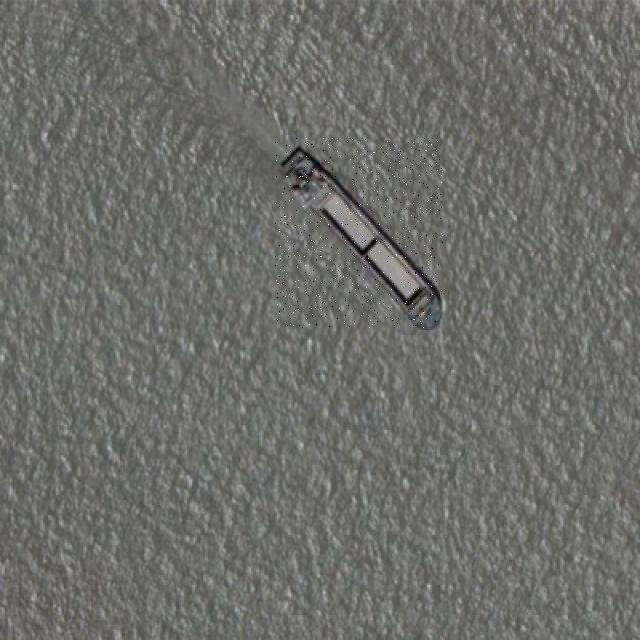boat: (275, 138, 443, 328)
